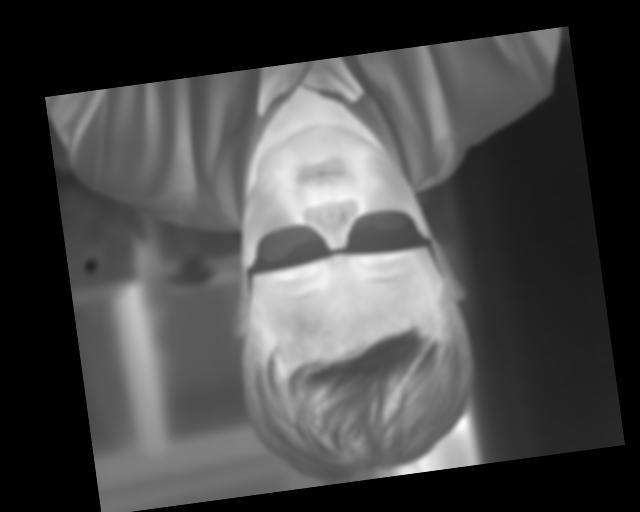face: (442, 229, 550, 356), (277, 322, 353, 417)
